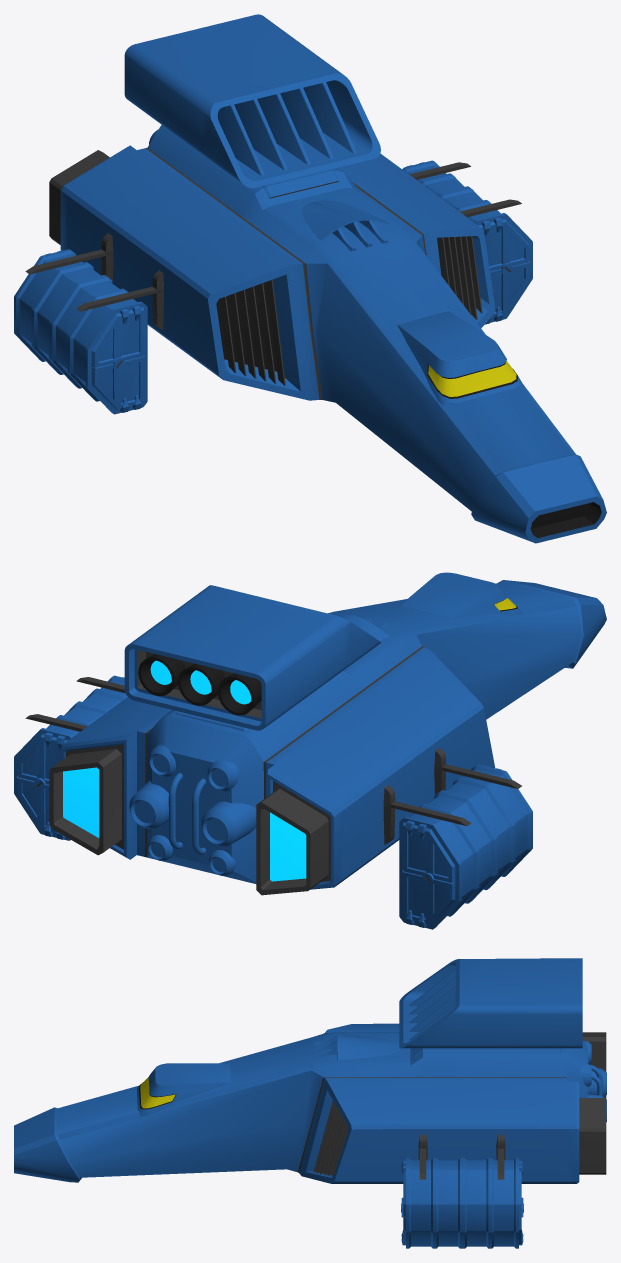
3 renders of one model, top to bottom at view 1: azimuth 30°, elevation 25°; view 2: azimuth 150°, elevation 25°; view 3: azimuth 270°, elevation 25°, orthographic. The views are drawn at different scales.
Parts seen in each view (by area): view 1: ShipPart_2, ShipPart_29, ShipPart_364, ShipPart_20, ShipPart_185, ShipPart_444, ShipPart_365, ShipPart_366; view 2: ShipPart_2, ShipPart_29, ShipPart_364, ShipPart_185, ShipPart_20, ShipPart_366, ShipPart_365, ShipPart_444; view 3: ShipPart_2, ShipPart_29, ShipPart_185, ShipPart_20, ShipPart_444, ShipPart_186, ShipPart_187.
Part boxes in pixels (left/top/right/bottom): ShipPart_2: left=49, top=125, right=606, bottom=543; ShipPart_29: left=124, top=14, right=380, bottom=188; ShipPart_364: left=14, top=249, right=147, bottom=414; ShipPart_20: left=397, top=311, right=524, bottom=405; ShipPart_185: left=402, top=160, right=532, bottom=324; ShipPart_444: left=301, top=200, right=389, bottom=251; ShipPart_365: left=76, top=270, right=163, bottom=329; ShipPart_366: left=25, top=233, right=113, bottom=281; ShipPart_2: left=49, top=580, right=606, bottom=895; ShipPart_29: left=124, top=585, right=380, bottom=730; ShipPart_364: left=399, top=764, right=532, bottom=929; ShipPart_185: left=14, top=675, right=127, bottom=840; ShipPart_20: left=400, top=572, right=522, bottom=617; ShipPart_366: left=383, top=785, right=471, bottom=844; ShipPart_365: left=434, top=747, right=521, bottom=794; ShipPart_444: left=337, top=614, right=389, bottom=640; ShipPart_2: left=14, top=1023, right=606, bottom=1183; ShipPart_29: left=399, top=958, right=582, bottom=1048; ShipPart_185: left=401, top=1158, right=523, bottom=1248; ShipPart_20: left=137, top=1063, right=231, bottom=1122; ShipPart_444: left=315, top=1034, right=400, bottom=1060; ShipPart_186: left=418, top=1134, right=427, bottom=1179; ShipPart_187: left=496, top=1134, right=505, bottom=1179.
Size of the model in its own units: 10.59 by 5.75 by 15.93.
